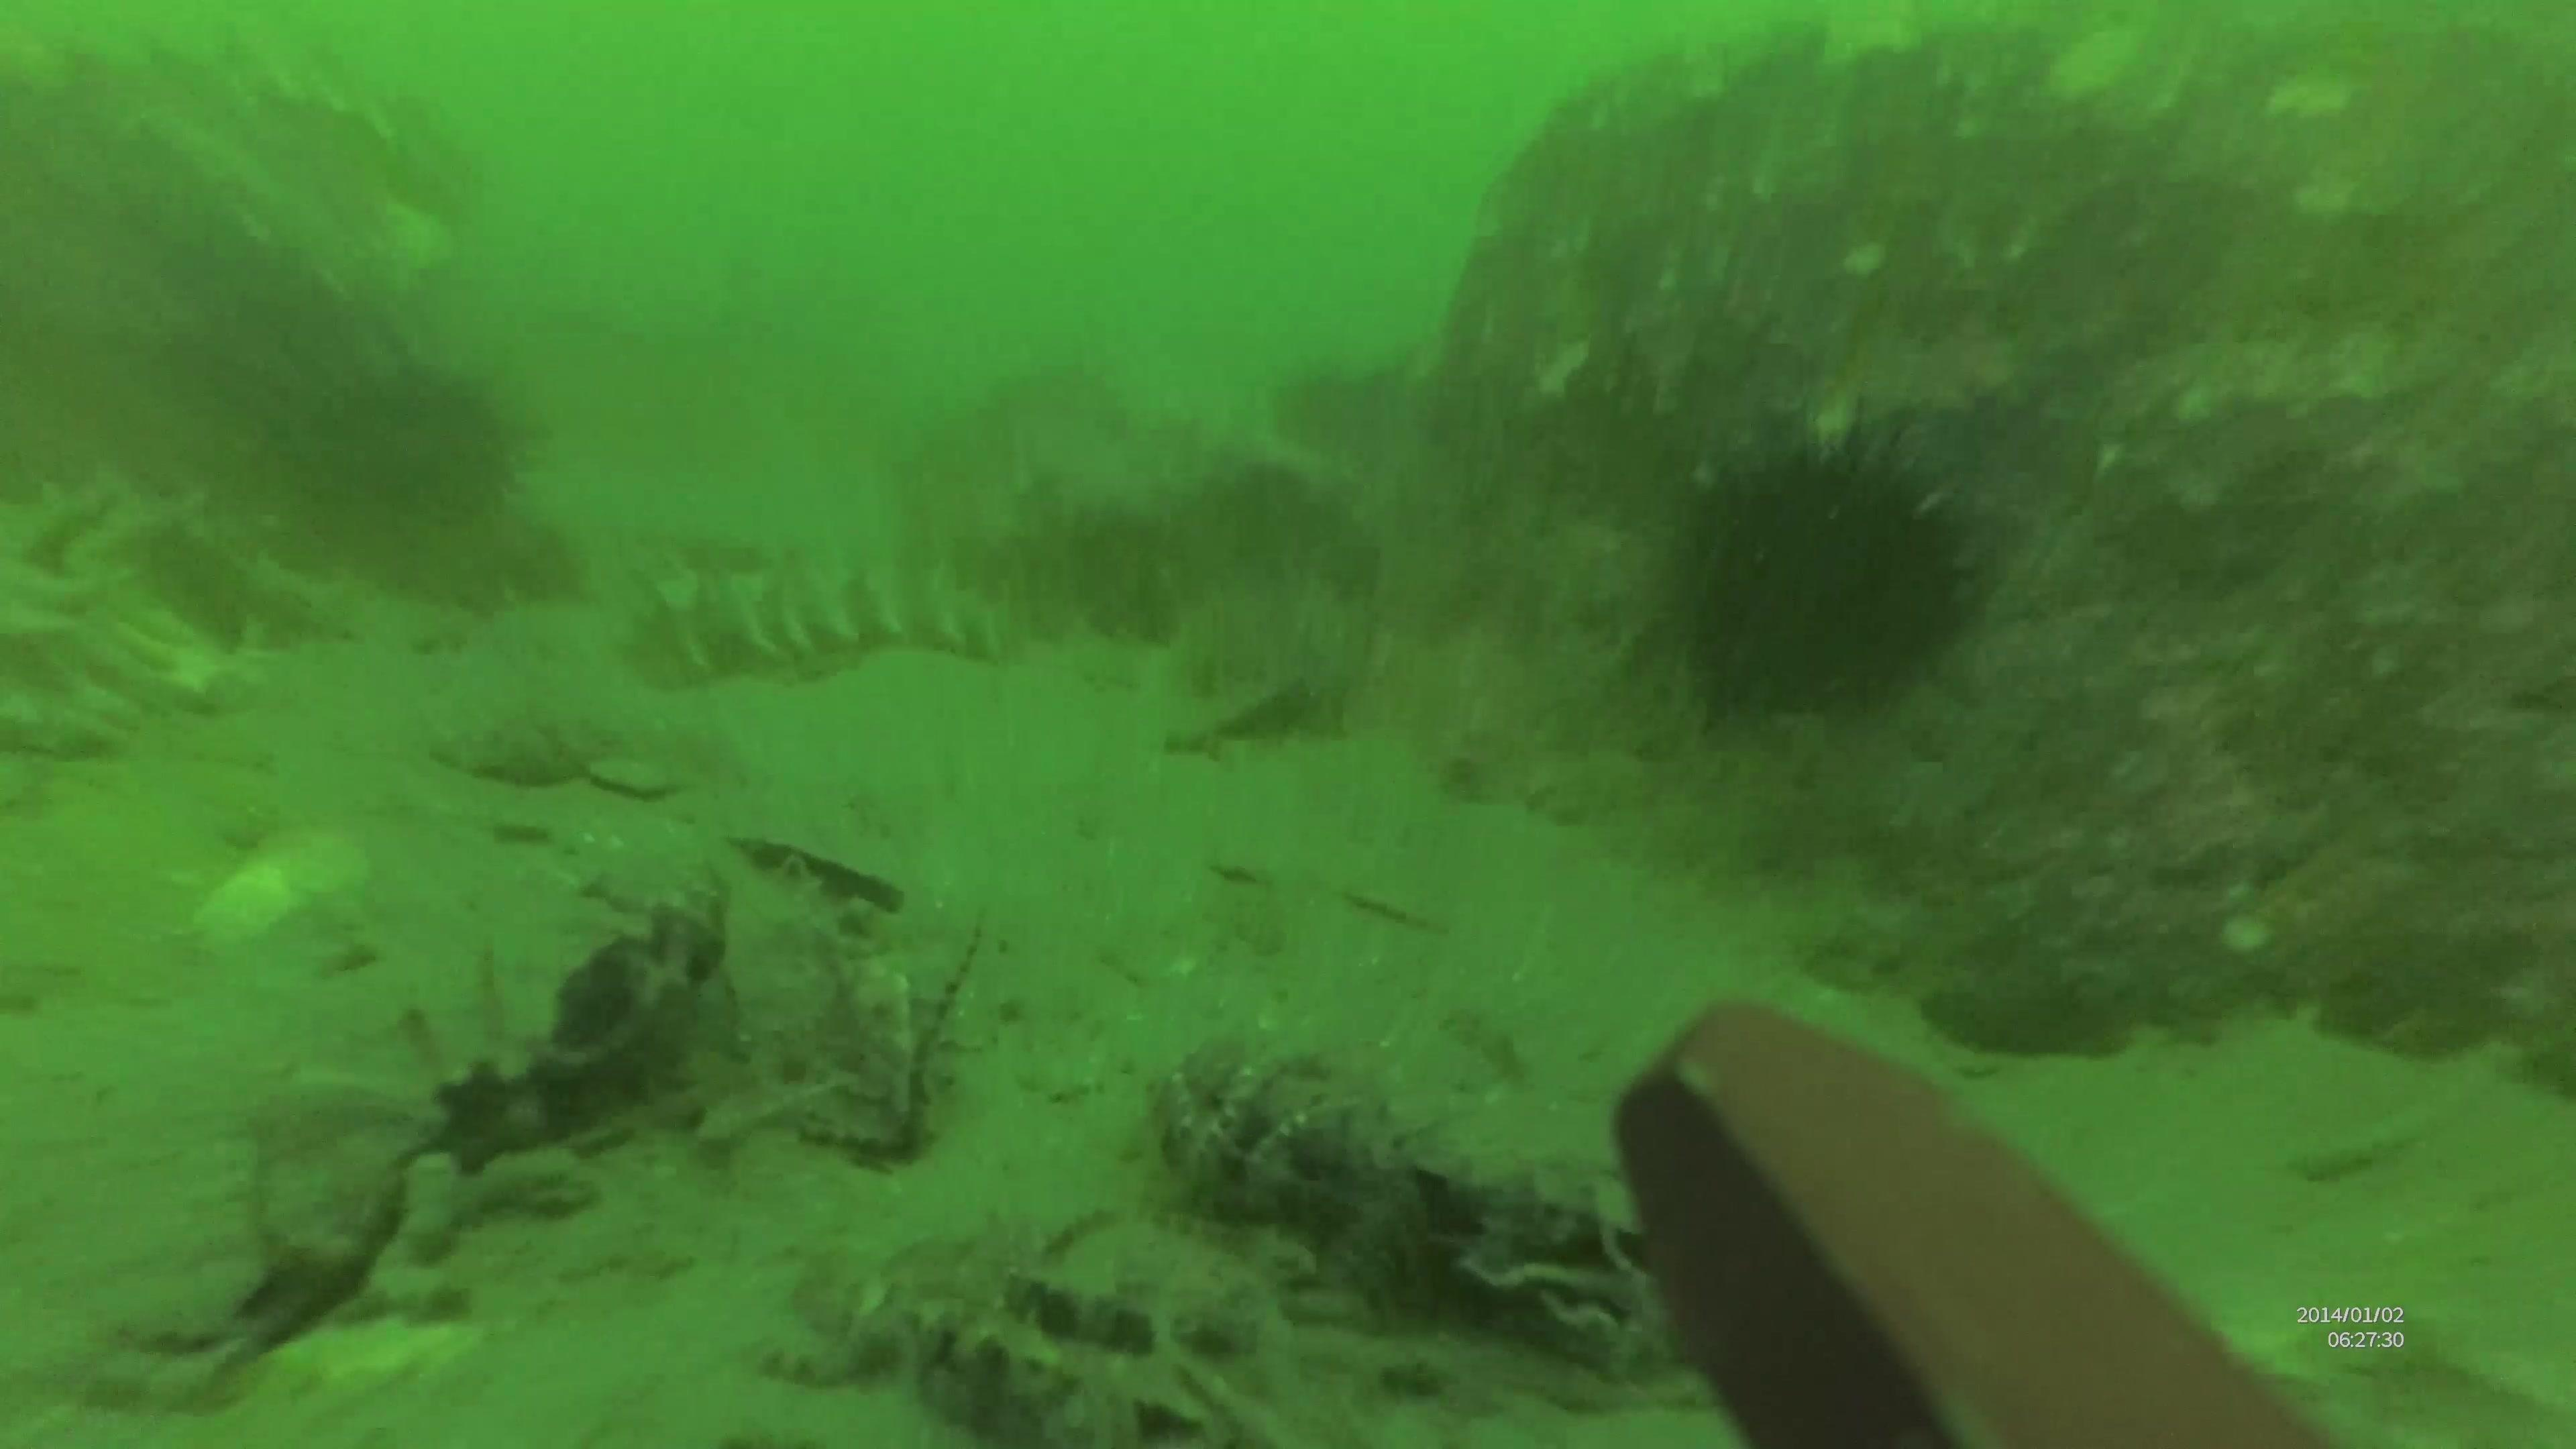echinus: (1645, 409, 1982, 731), (361, 372, 556, 511)
holothurian: (0, 474, 310, 759), (628, 552, 1024, 688)
